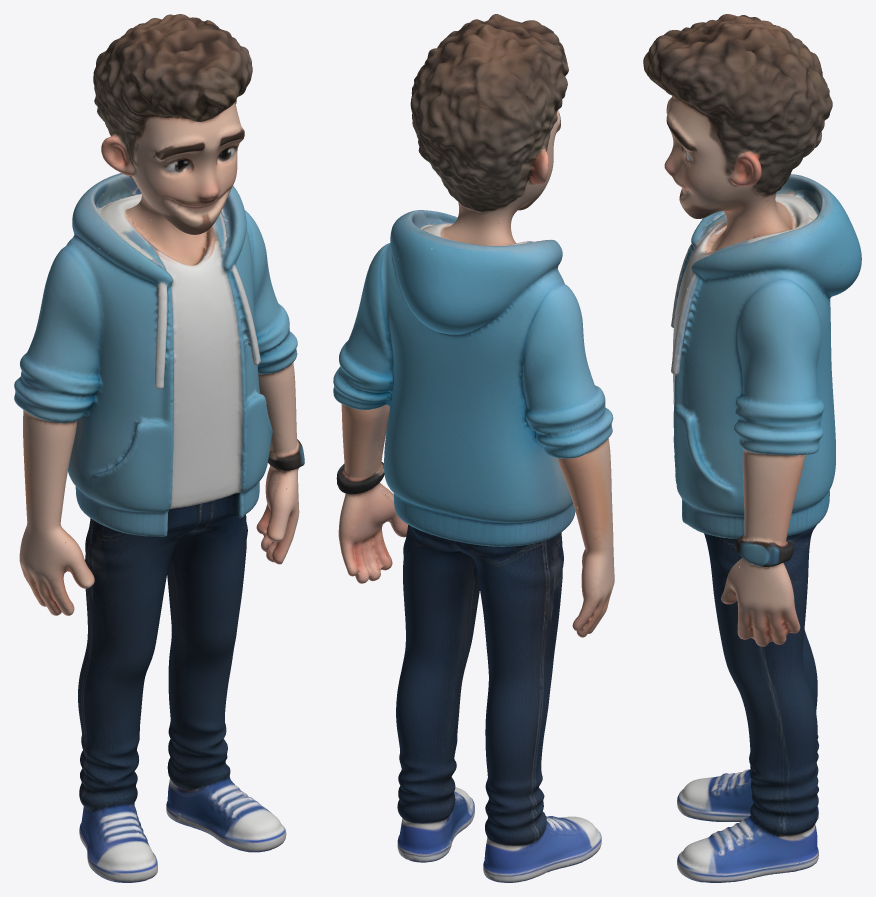
Rendered from Meshy_3D.glb.
3 views of the same model, side by side, from view 1: azimuth 30°, elevation 25°; view 2: azimuth 150°, elevation 25°; view 3: azimuth 270°, elevation 25° (orthographic).
Bounding box in the file's own units: 0.6897 × 2 × 0.4837.
Materials: 1 (1 with a texture image).
